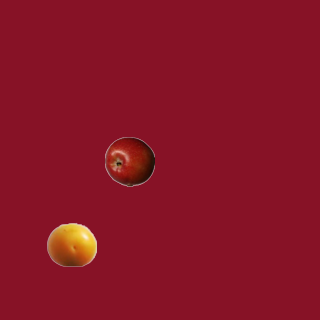Apple Braeburn: (104, 136, 154, 186)
Cherry Wax Yellow: (46, 219, 96, 269)
